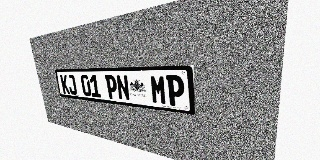0: (80, 75, 92, 97)
1: (89, 75, 101, 98)
J: (67, 75, 77, 95)
K: (60, 75, 70, 94)
M: (150, 75, 167, 105)
N: (116, 75, 130, 101)
P: (166, 75, 185, 107), (105, 75, 118, 100)
